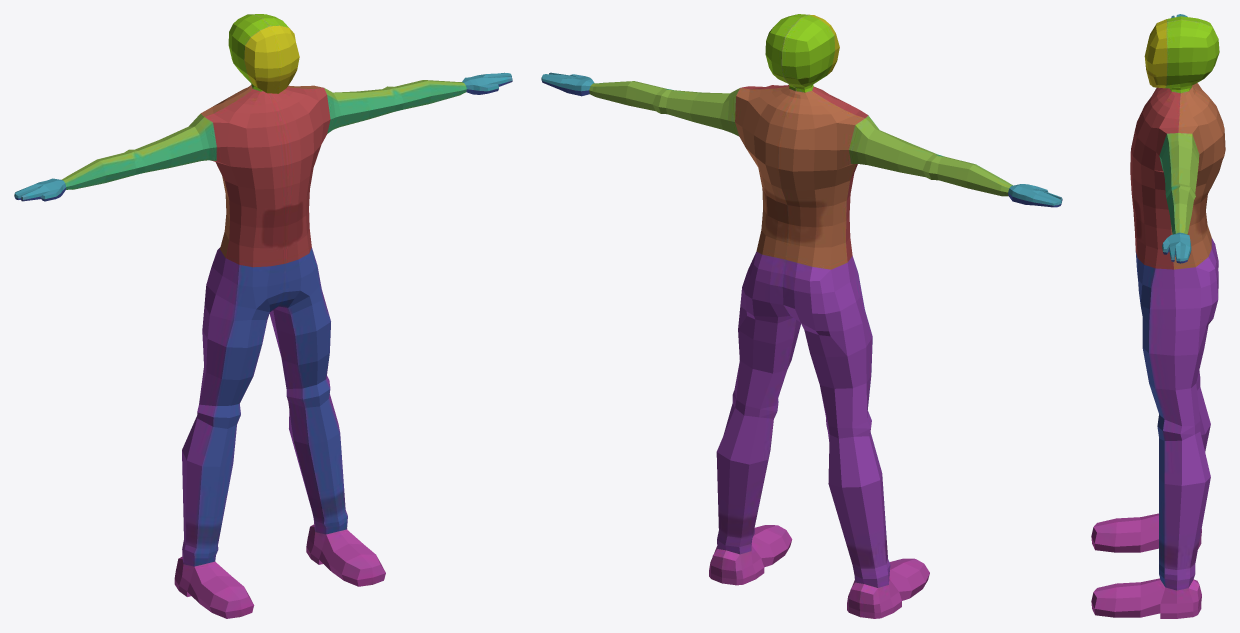
The model's file is HumanoidModel.glb.
3 renders of one model, left to right at view 1: azimuth 30°, elevation 25°; view 2: azimuth 150°, elevation 25°; view 3: azimuth 270°, elevation 25°, orthographic. The views are drawn at different scales.
Parts seen in each view (by area): view 1: Humanoid; view 2: Humanoid; view 3: Humanoid.
Part boxes in pixels (<box>): Humanoid: <box>14,14,512,618</box>; Humanoid: <box>541,14,1062,618</box>; Humanoid: <box>1091,14,1225,618</box>.
Size of the model in its own units: 1.72 by 1.82 by 0.3981.
Materials: 2 (2 with a texture image).
